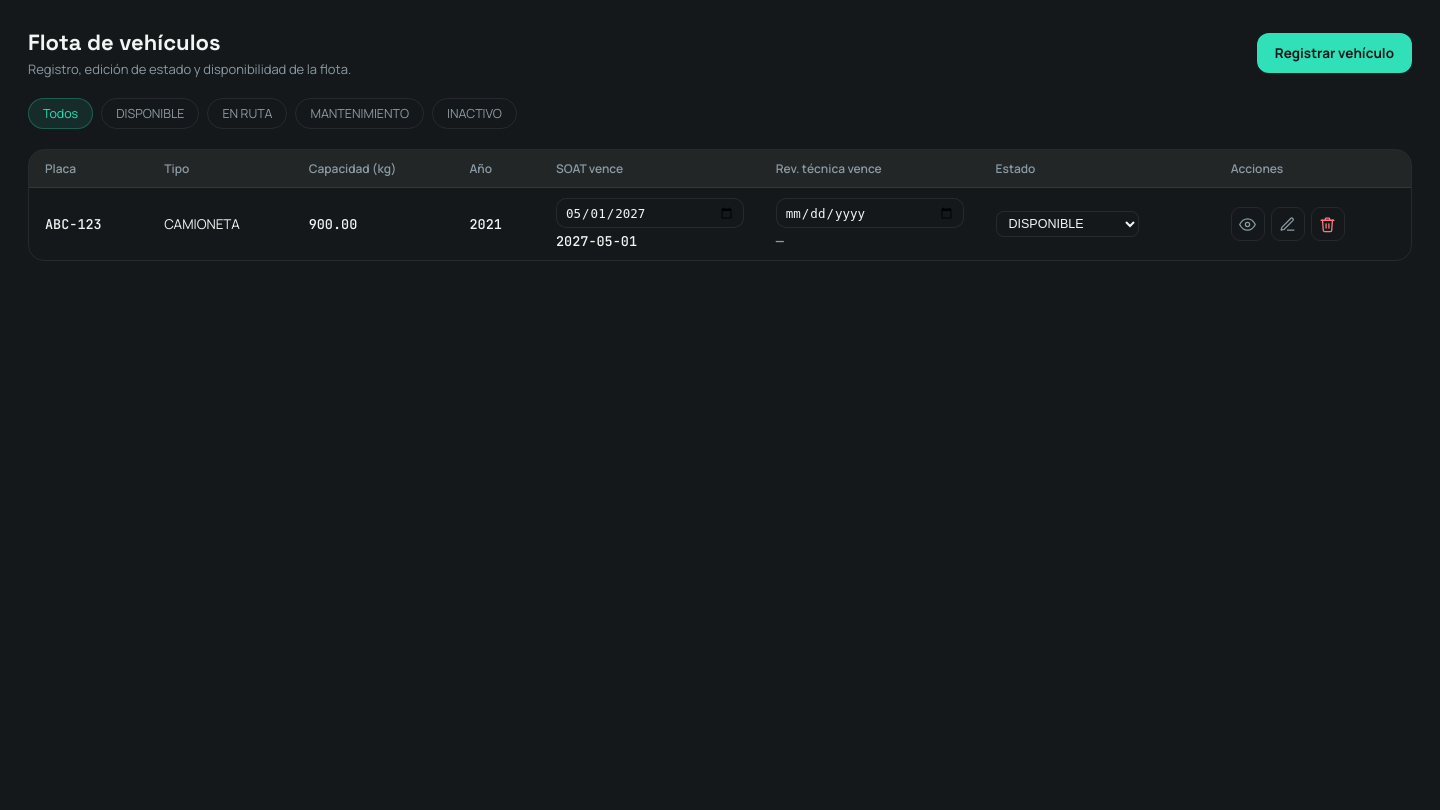
it: Flota: detalle, edición y eliminación › un vehículo con rutas no se elimina y se muestra el motivo
What coordinates should you click on to do the following:
click the button named "Eliminar ABC-123"
I would click on:
 (1328, 224)
Its box is x1=1311 y1=207 x2=1345 y2=241.
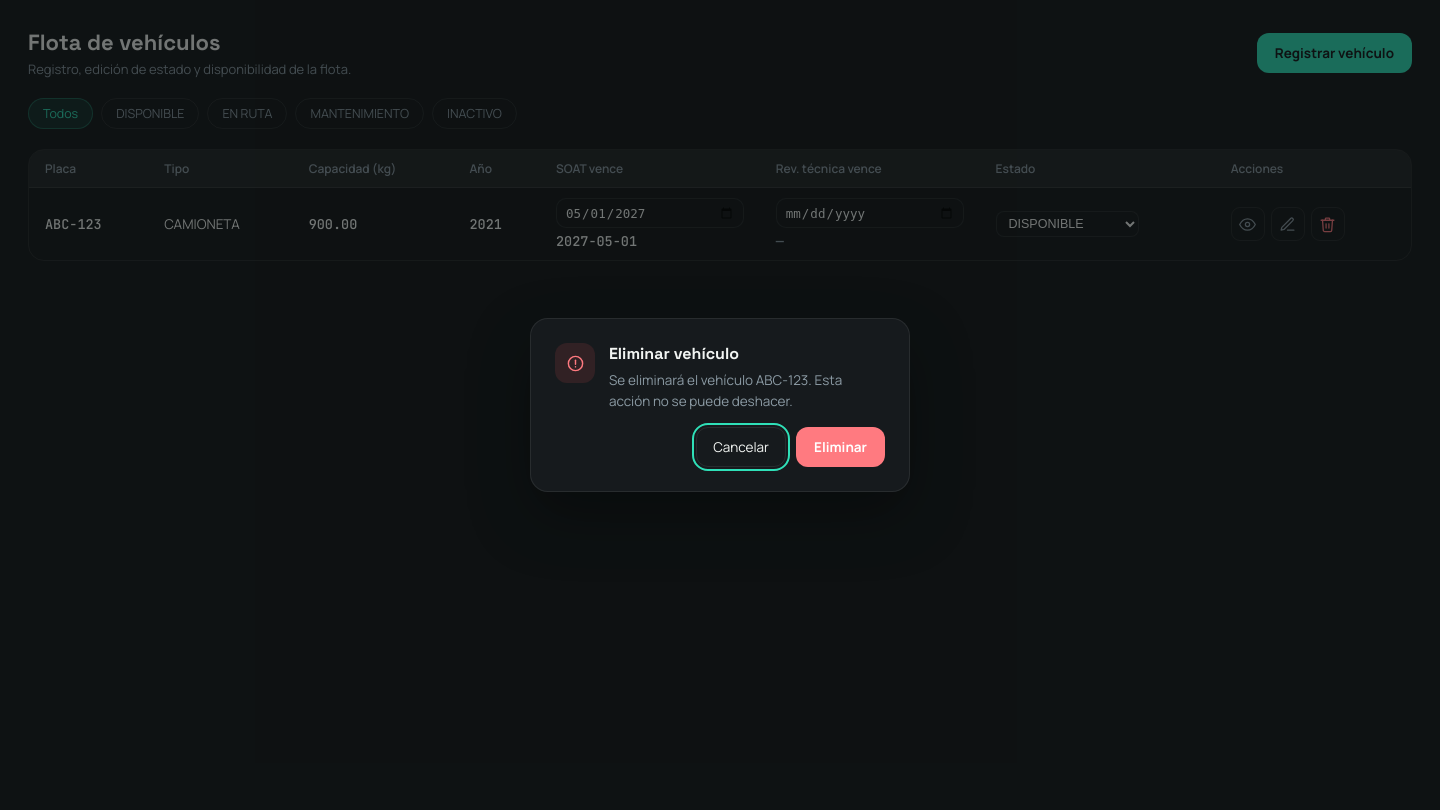
What coordinates should you click on to do the following:
click the button "Eliminar"
I would click on:
 (840, 447)
Its box is x1=796 y1=427 x2=885 y2=467.
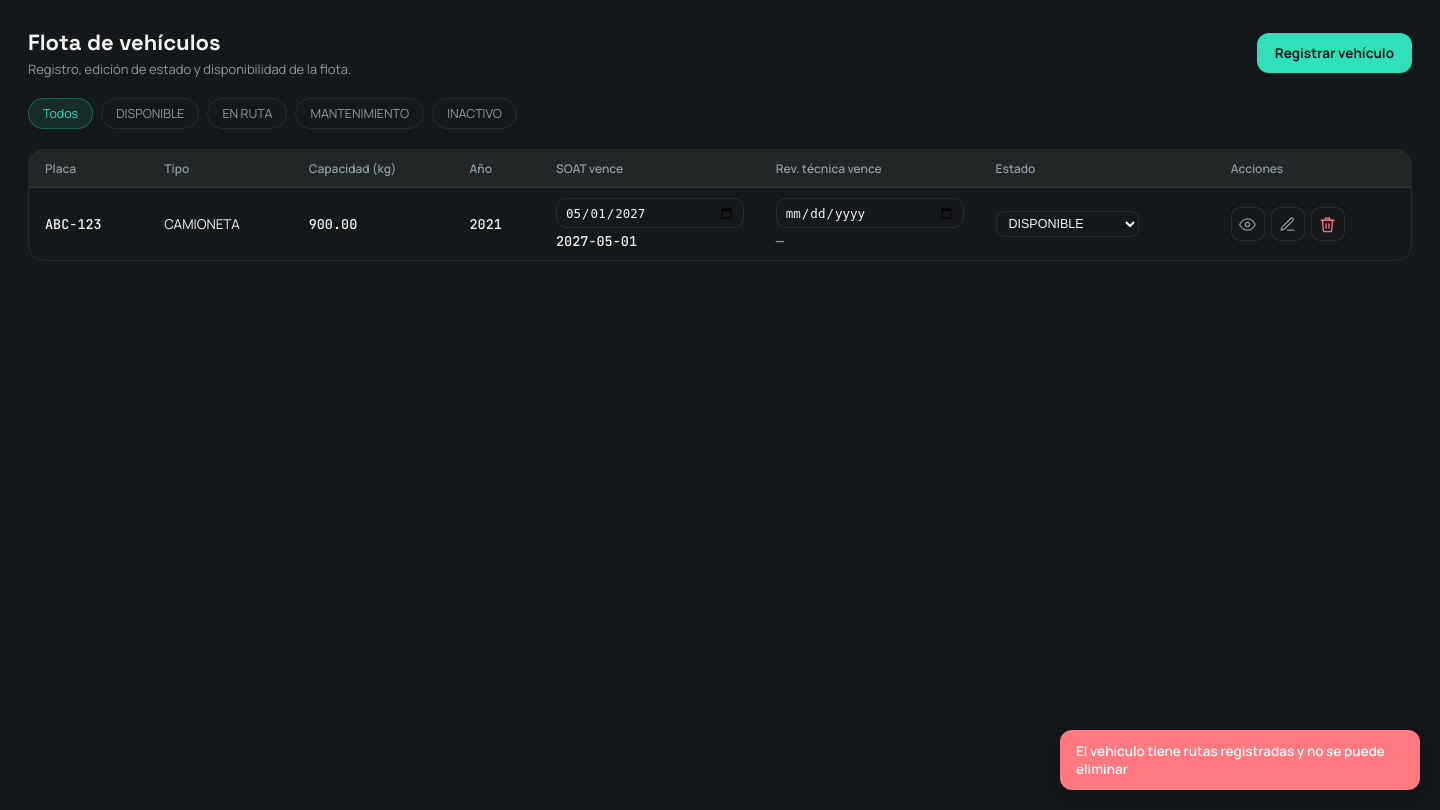
Now the text "El vehículo tiene rutas registradas y no se puede eliminar" is shown, box x1=1060 y1=730 x2=1420 y2=790
